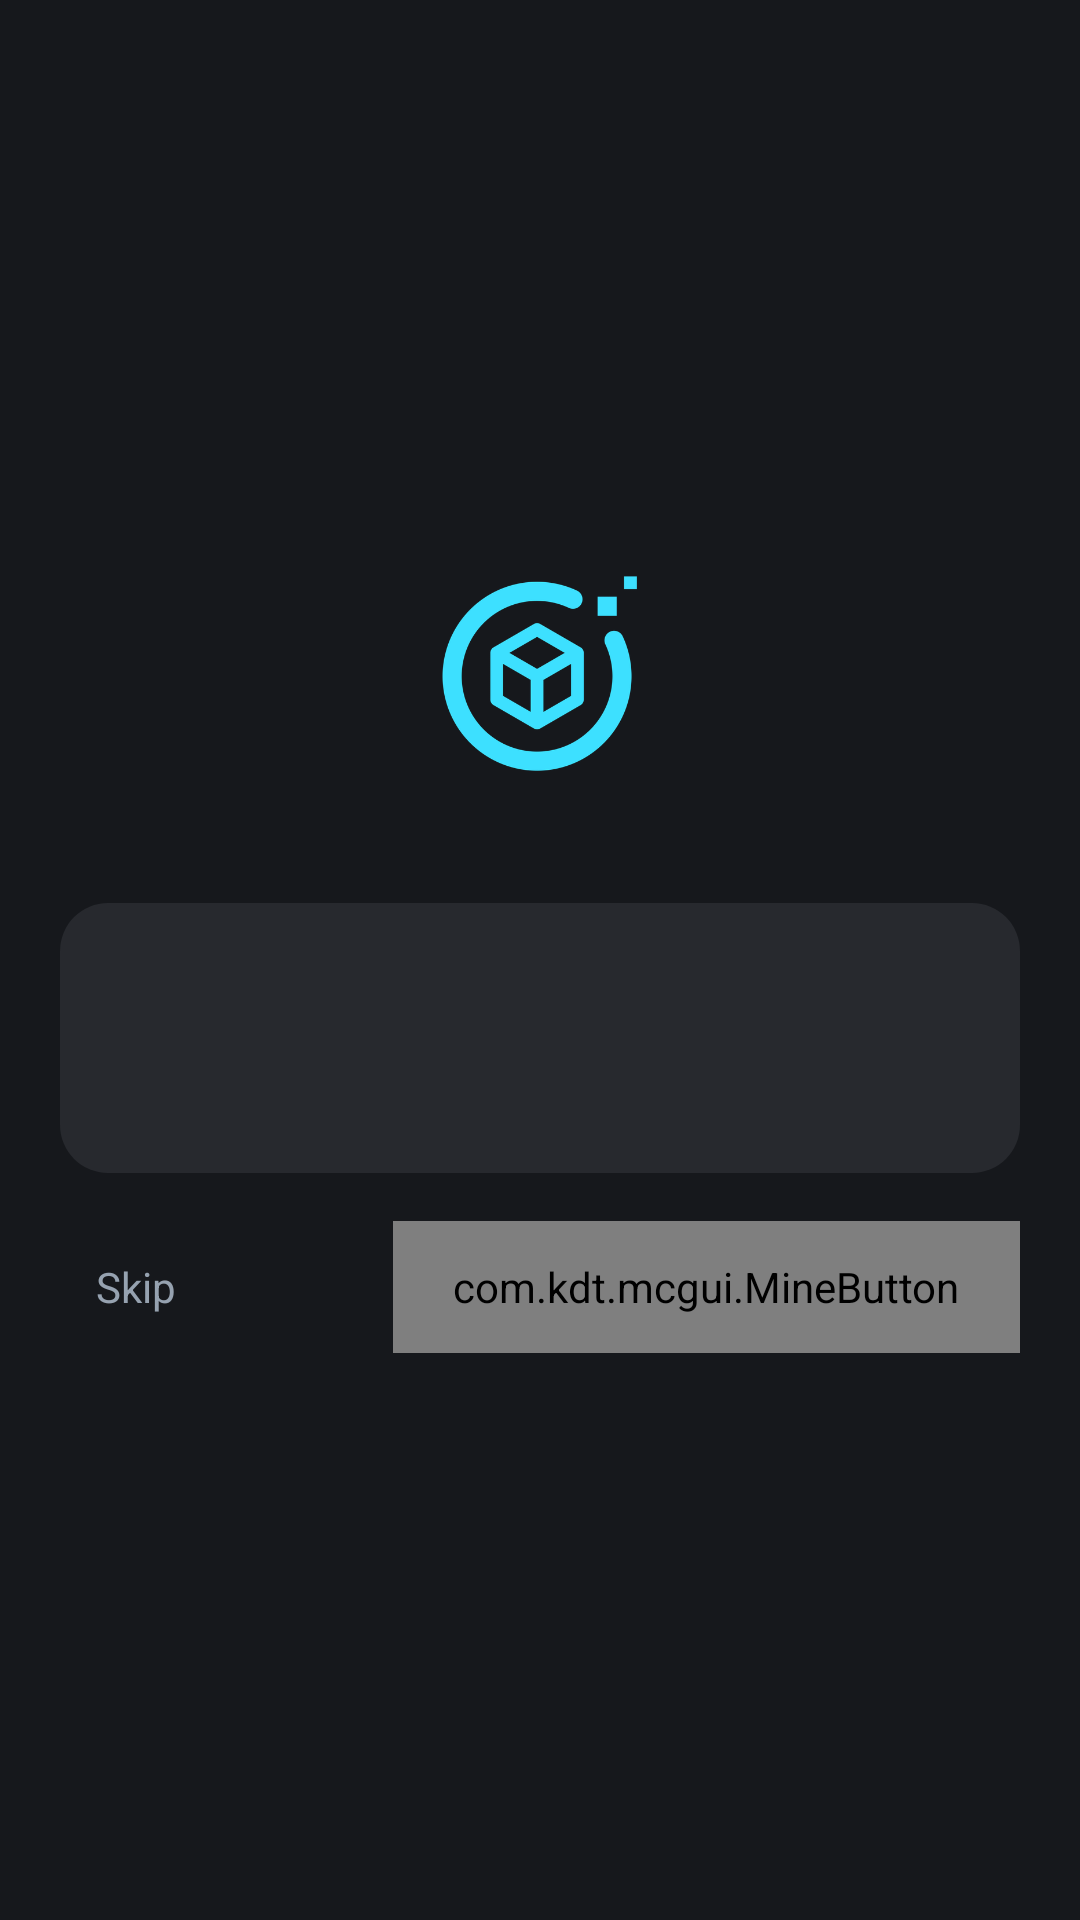

Icon click points for this 1080px x 1920px phone screenshot, format point (x, y):
voxelith: point (539, 673)
